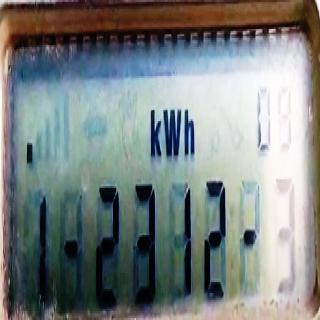-: (243, 221, 255, 250), (64, 238, 78, 260), (24, 138, 34, 168)
0: (255, 80, 272, 160)
1: (34, 183, 53, 317), (180, 182, 196, 300)
2: (94, 178, 123, 314), (201, 172, 229, 309)
3: (130, 169, 160, 315), (272, 167, 301, 307)
